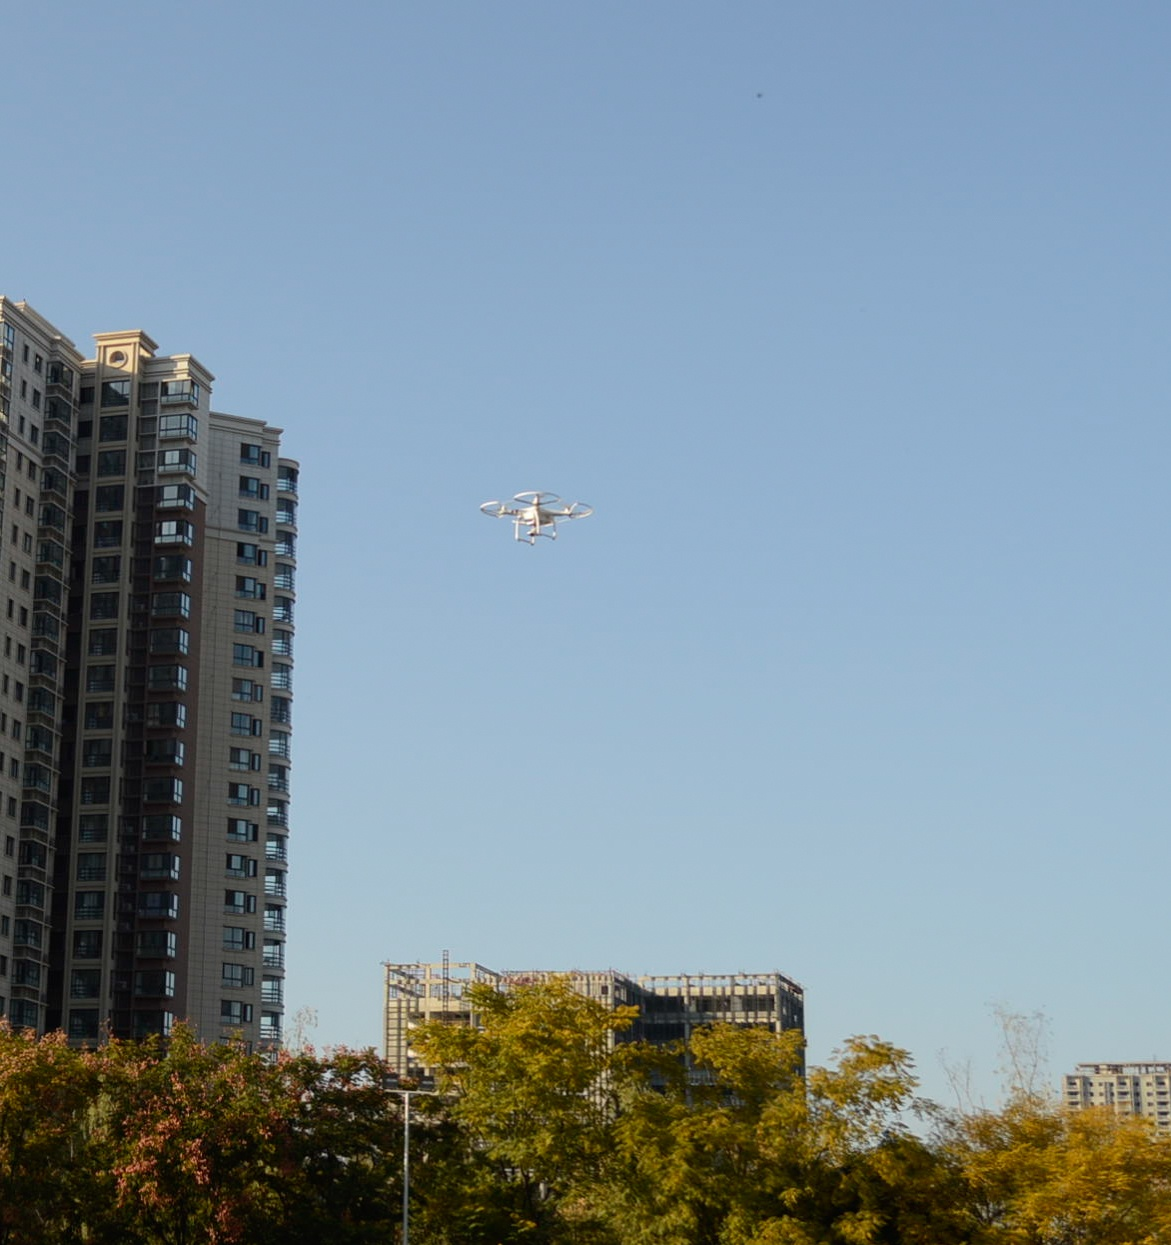DJI: (478, 487, 598, 549)
